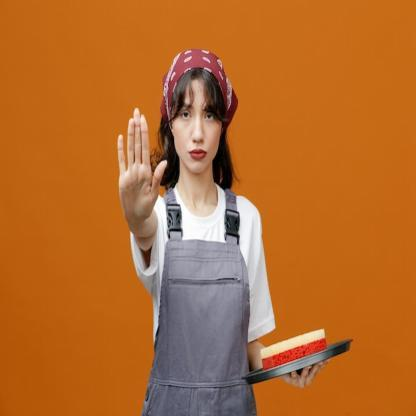stop: (115, 107, 170, 231)
